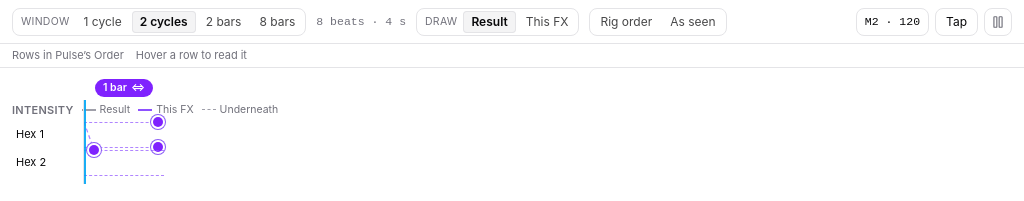
Test: the handles (FX editor plan D12, §4.4) › names a knob on hover and lights what it changes
The width and height of the screenshot is (1024, 201).
Hover over the element named "Later by ¼ cycle" at (94, 150), box [89, 145, 99, 155]
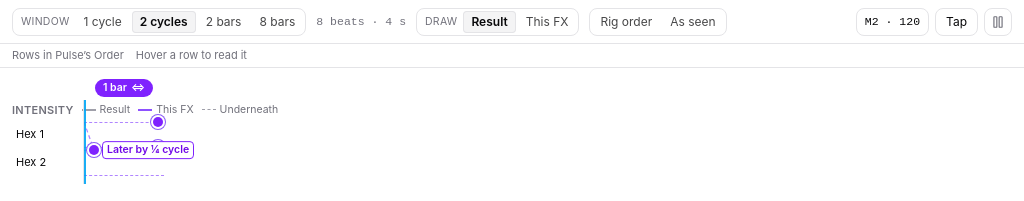
Expected: the text "Later by ¼ cycle" is shown, [102, 141, 194, 159]
Move the pointer off the element showing "Later by ¼ cycle", box [86, 142, 102, 158]
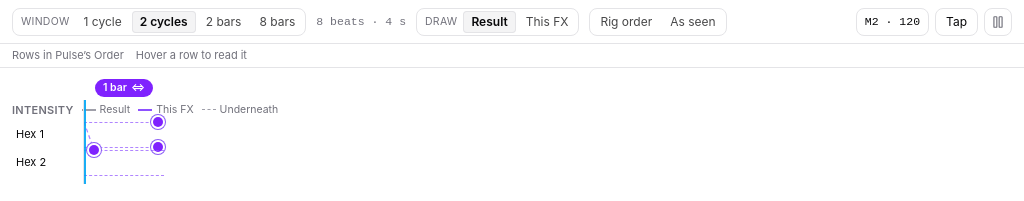
Hover over the element named "High 100%" at (158, 122), box [153, 117, 163, 127]
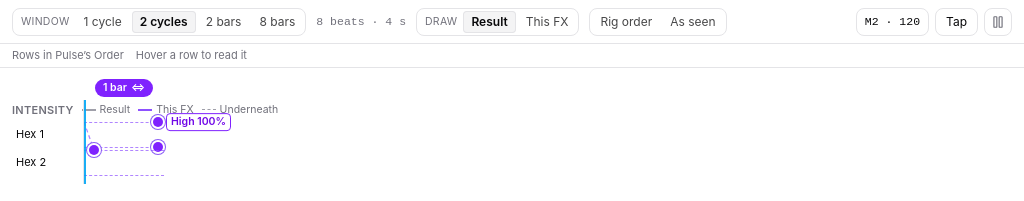
Expected: the text "High 100%" is shown, [166, 113, 231, 131]
